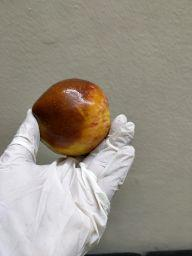Apple Rotten: (31, 77, 112, 162)
